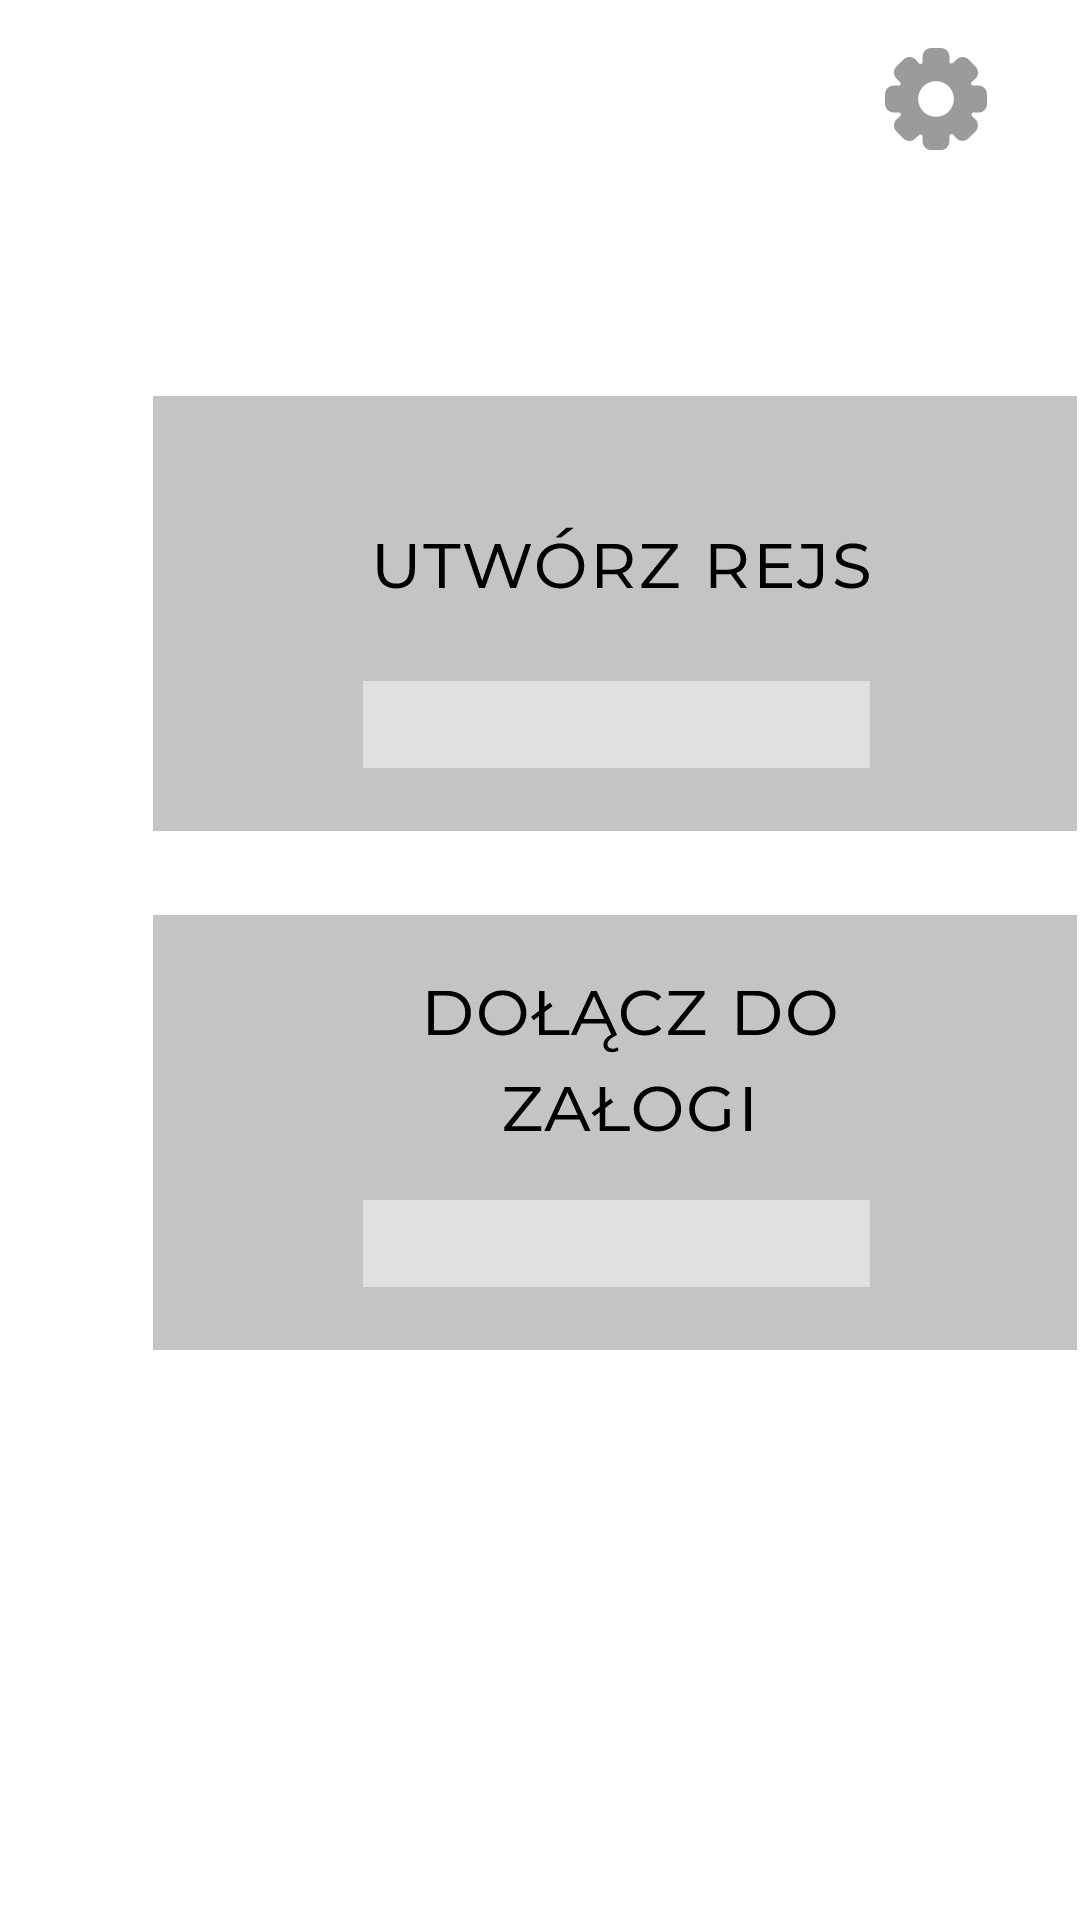

Icon click points for this 1080px x 1920px phone screenshot, format point (x, y):
settings view: point (936, 99)
